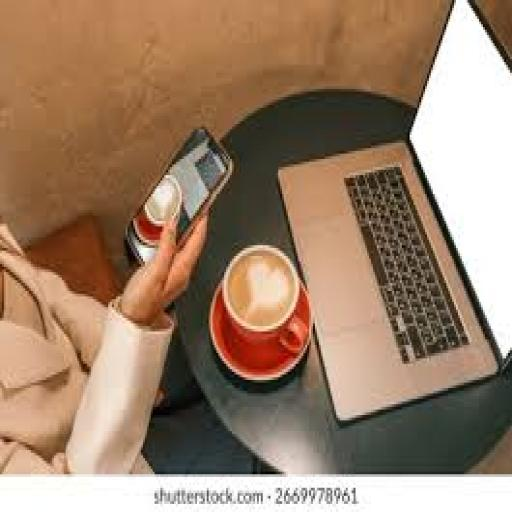phone: (126, 127, 233, 261)
red mug: (223, 246, 309, 355)
